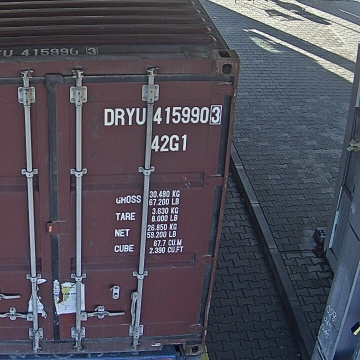serial_id: (103, 106, 220, 125)
